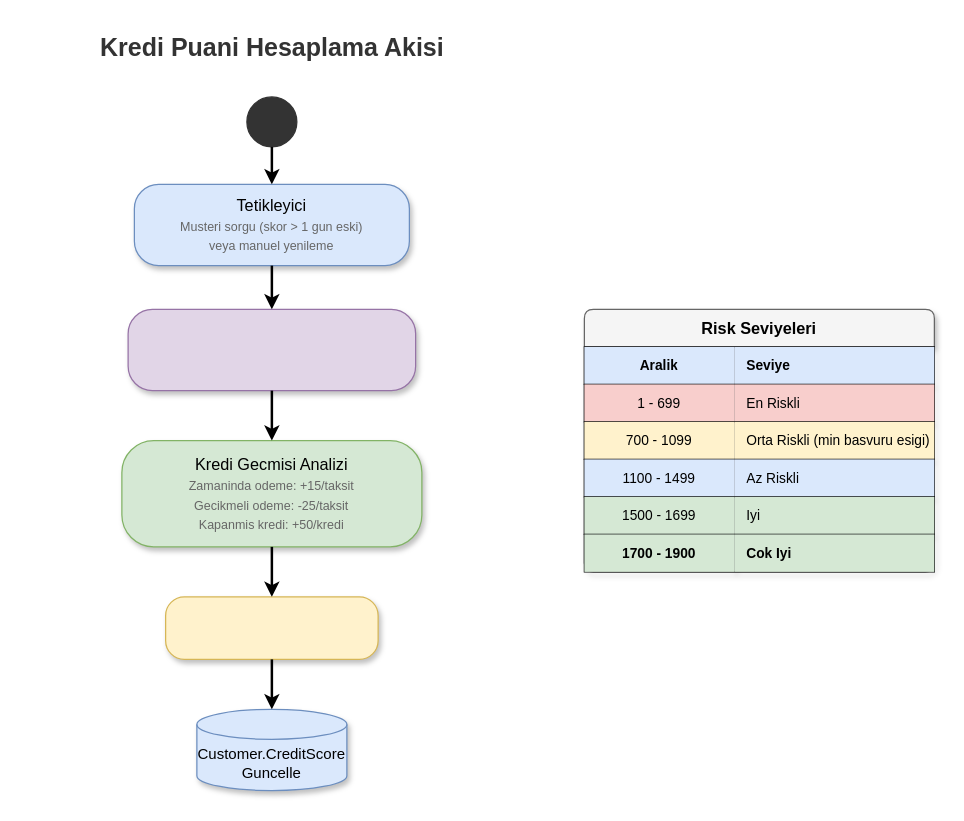
This 964x821 diagram has some shape labels left out. The centre of each missing label's shape, as x and y in pixels:
"Baz Skor Hesapla TC numarasindan deterministik turetim (700 - 1500 arasi)" goes at (x=272, y=351).
"Skor Sinirla Min: 1, Max: 1900" goes at (x=272, y=629).
